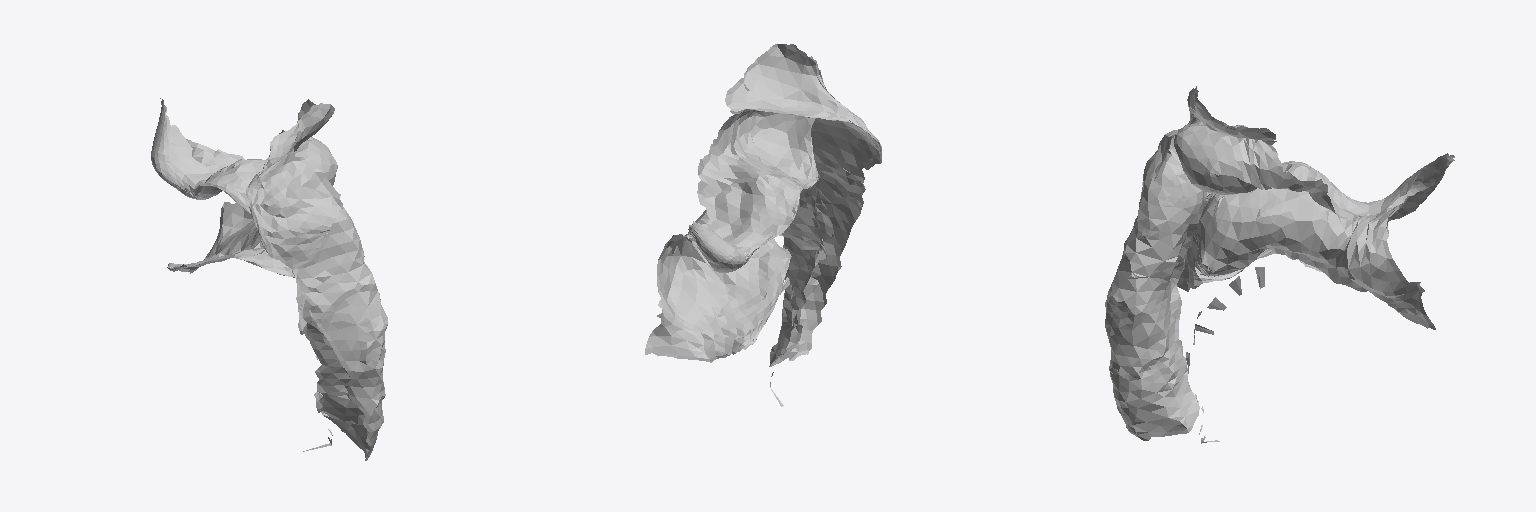
Rendered from R_cingulate_anterior.obj.
The picture shows the model from 3 angles: view 1: azimuth 30°, elevation 25°; view 2: azimuth 150°, elevation 25°; view 3: azimuth 270°, elevation 25°; orthographic projection.
Visible parts, largest first — view 1: R_cingulate_anterior_L_cingulate_anterior; view 2: R_cingulate_anterior_L_cingulate_anterior; view 3: R_cingulate_anterior_L_cingulate_anterior.
Part boxes in pixels (x1,y1,x2,y2): R_cingulate_anterior_L_cingulate_anterior: (151, 98, 387, 460); R_cingulate_anterior_L_cingulate_anterior: (645, 44, 881, 406); R_cingulate_anterior_L_cingulate_anterior: (1105, 86, 1454, 443).
Size of the model in its own units: 50.64 by 153 by 136.